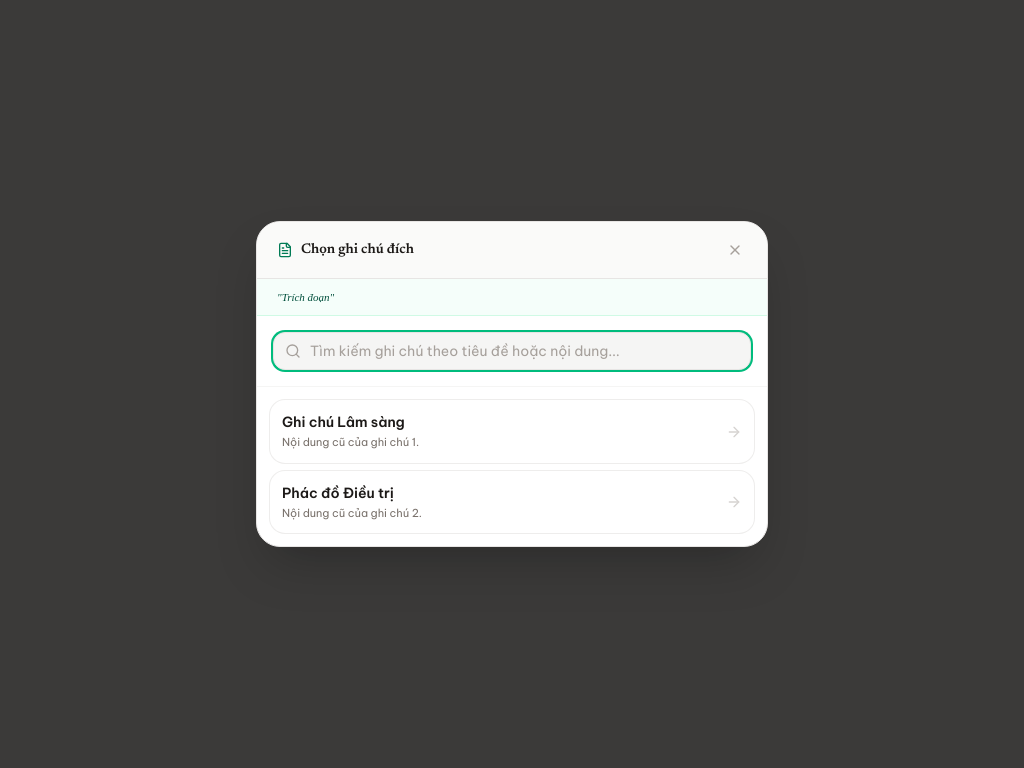
Test: Phase 18A Wave 3: Send Excerpt to Note Flow › renders empty state when no notes match search query
The width and height of the screenshot is (1024, 768).
Step 1. Type "Từ khóa không tồn tại" into the field with placeholder "Tìm kiếm ghi chú theo tiêu đề hoặc nội dung..." → [512, 351], box [273,332,751,370]
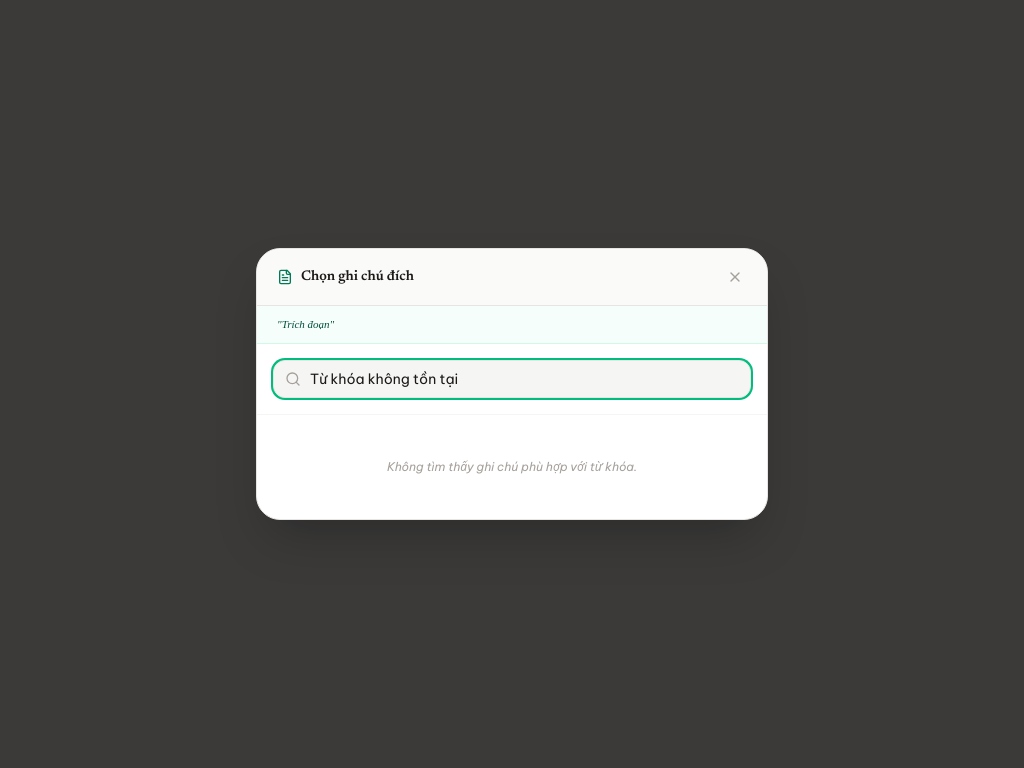
Now the text "Không tìm thấy ghi chú phù hợp với từ khóa." is shown, box [387,459,637,474]
